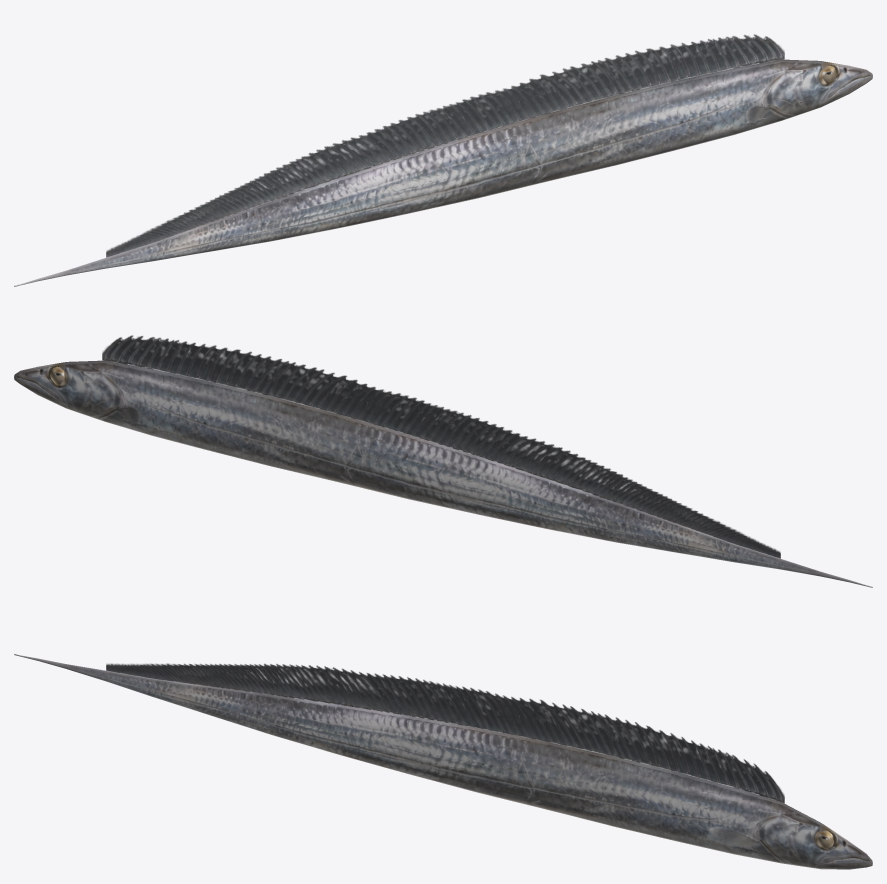
The model's file is tachiuo_lo.glb.
3 views of the same model, one above another, from view 1: azimuth 30°, elevation 25°; view 2: azimuth 150°, elevation 25°; view 3: azimuth 330°, elevation 25° (orthographic).
Parts seen in each view (by area): view 1: tachiuo; view 2: tachiuo; view 3: tachiuo.
Part boxes in pixels (<box>): tachiuo: <box>14,34,872,286</box>; tachiuo: <box>14,335,872,587</box>; tachiuo: <box>14,654,872,869</box>.
Bounding box in the file's own units: 0.9935 × 0.1217 × 0.0794.
Materials: 1 (1 with a texture image).
